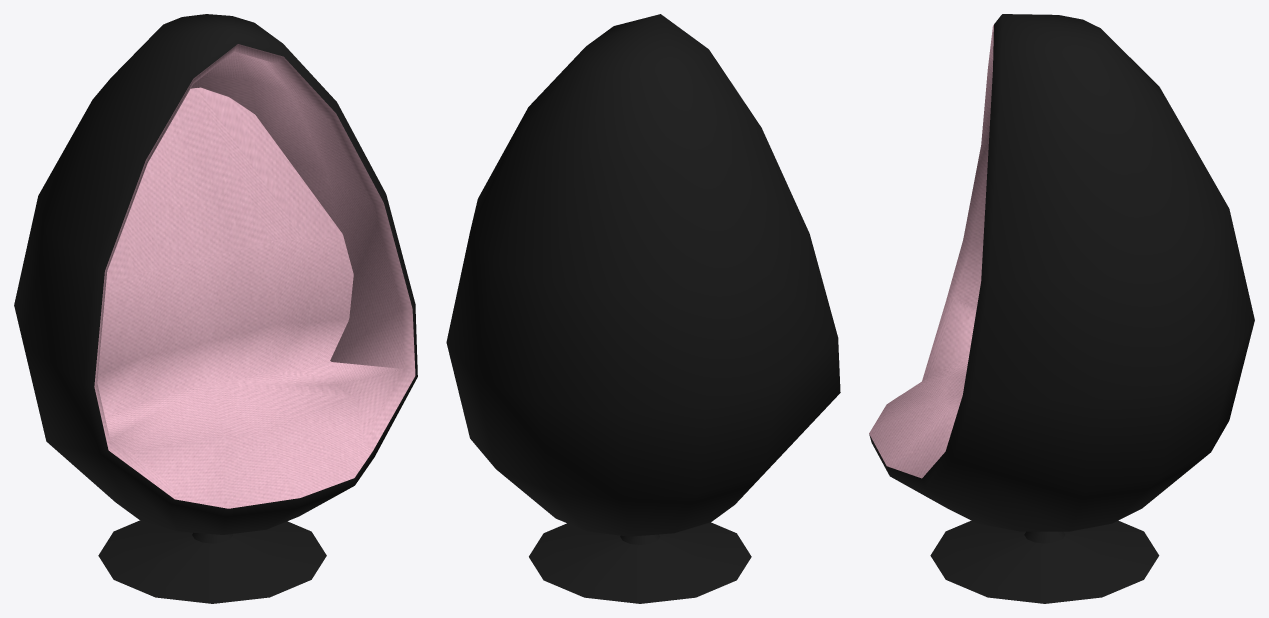
File: Eggchair_B_12.FBX
The picture shows the model from 3 angles, left to right: view 1: azimuth 30°, elevation 25°; view 2: azimuth 150°, elevation 25°; view 3: azimuth 270°, elevation 25°; orthographic projection. The views are drawn at different scales.
Parts seen in each view (by area): view 1: Egg_chair; view 2: Egg_chair; view 3: Egg_chair.
Boxes of the visible parts, <box> form: Egg_chair: <box>14,14,417,603</box>; Egg_chair: <box>446,14,840,603</box>; Egg_chair: <box>869,14,1254,603</box>.
Bounding box in the file's own units: 168 × 261 × 169.
